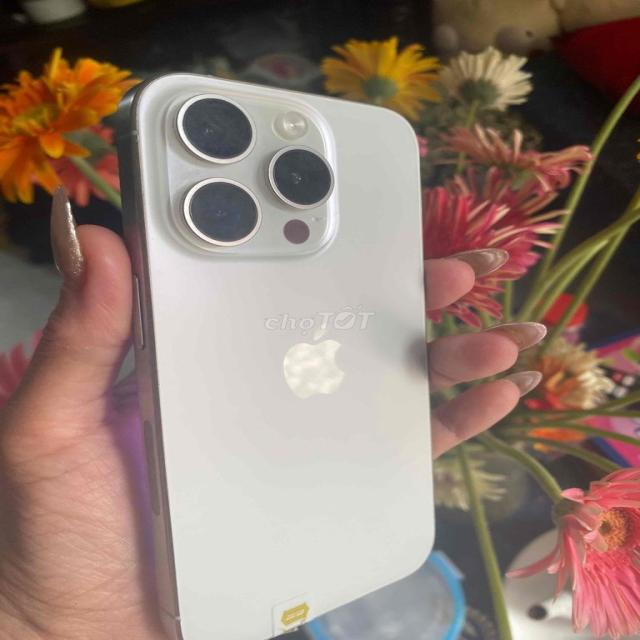gen_15: (117, 58, 456, 640)
